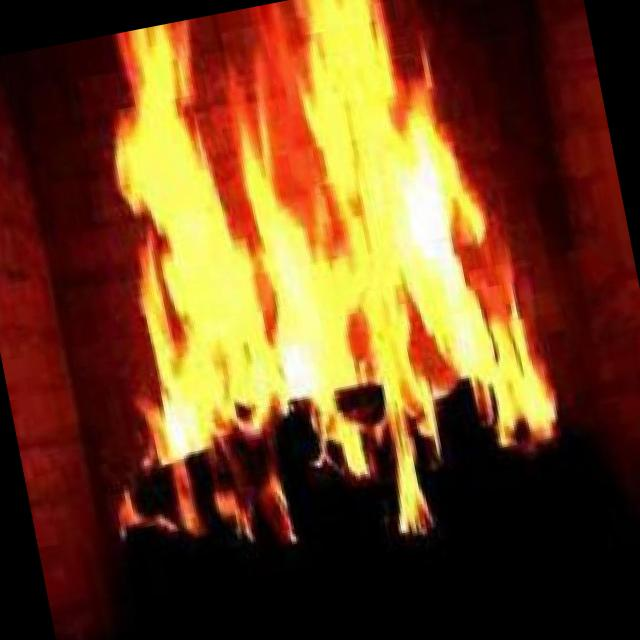Fire: (18, 0, 587, 595)
